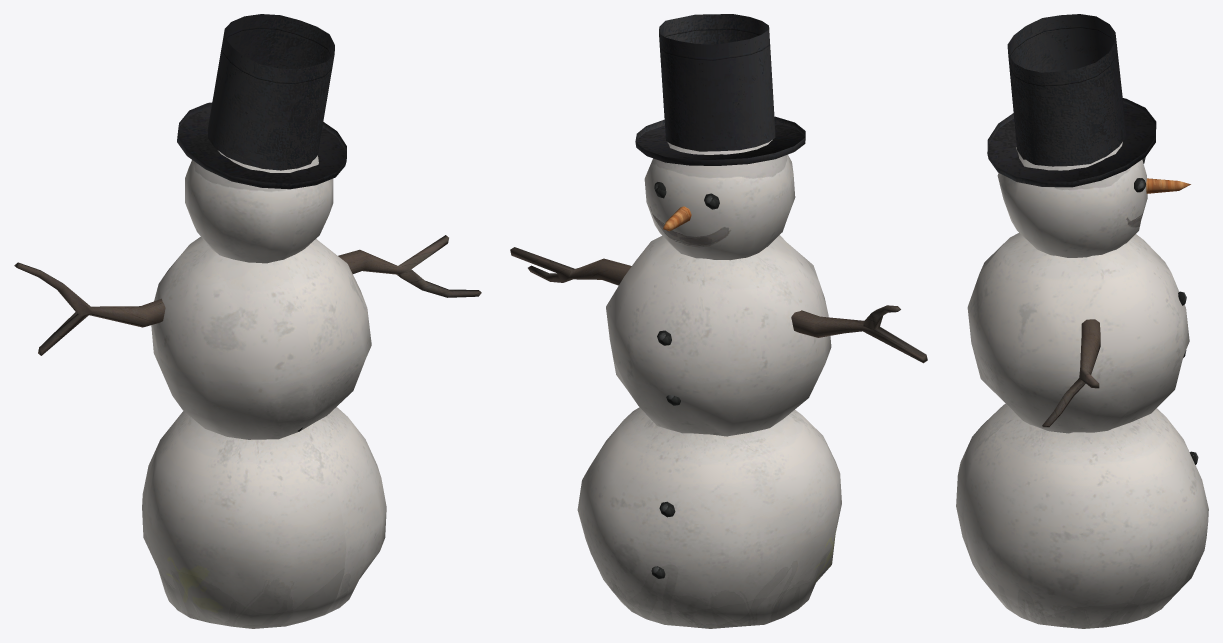
The model's file is snowman.glb.
3 views of the same model, side by side, from view 1: azimuth 30°, elevation 25°; view 2: azimuth 150°, elevation 25°; view 3: azimuth 270°, elevation 25° (orthographic).
Visible parts, largest first — view 1: Sphere01; view 2: Sphere01; view 3: Sphere01.
Boxes of the visible parts, left/top/right/bottom form: Sphere01: left=14, top=14, right=481, bottom=628; Sphere01: left=510, top=14, right=927, bottom=628; Sphere01: left=956, top=14, right=1208, bottom=628.
Size of the model in its own units: 164 by 214 by 86.14.
Materials: 1 (1 with a texture image).
